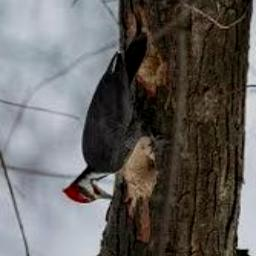Woodpecker: (63, 11, 162, 204)
